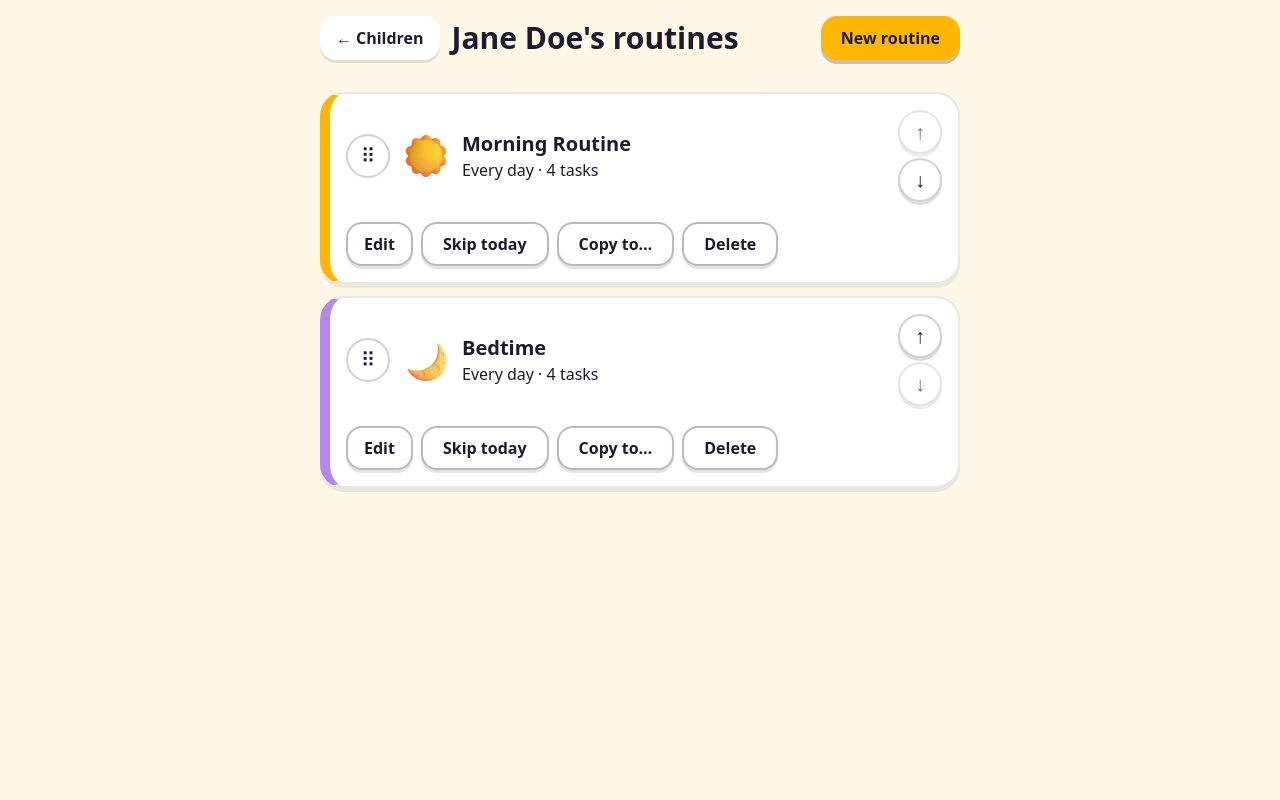
RoutineListScreen › deletes a routine after confirming
This screenshot has width=1280, height=800.
Step 1. Click the button with aria-label "Delete Bedtime" → coordinates (730, 448), box x1=682 y1=426 x2=778 y2=470
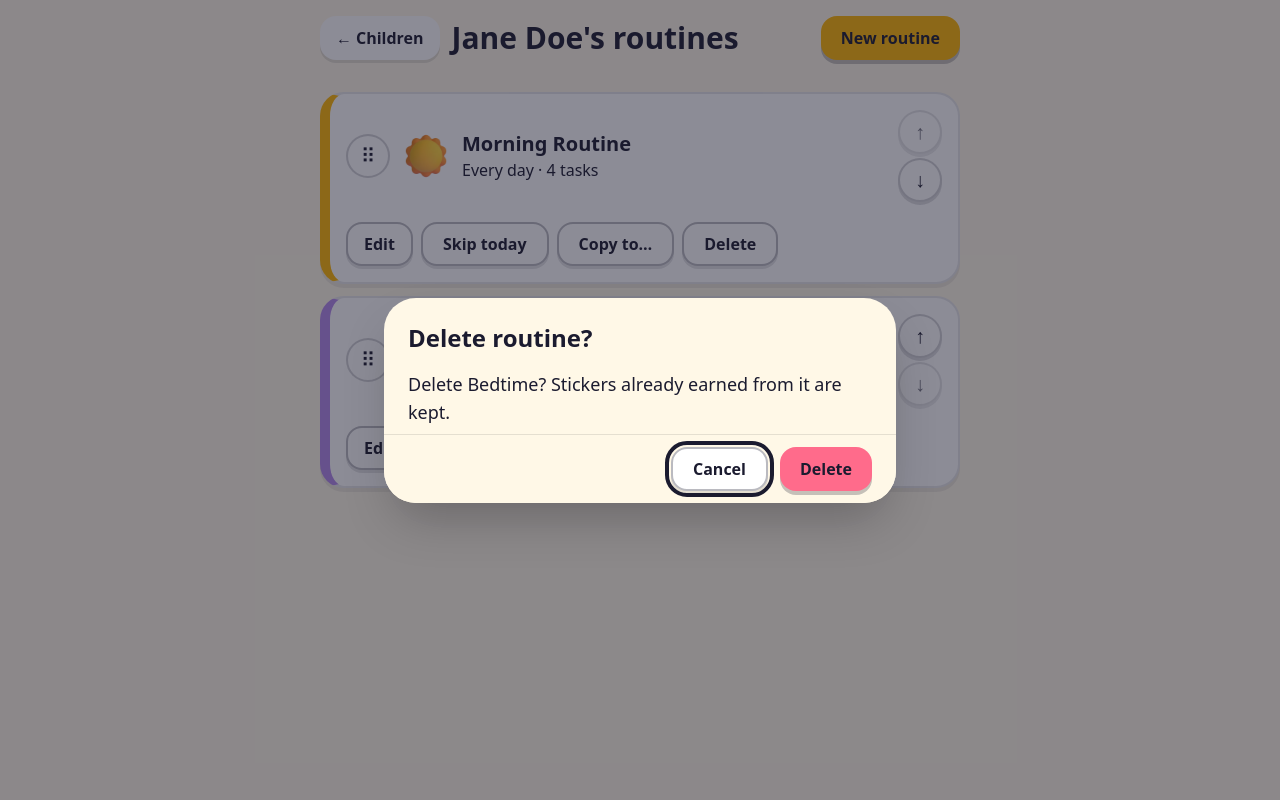
Expected: the text "Delete Bedtime? Stickers already earned from it are kept." is shown, x1=408 y1=370 x2=872 y2=426
Step 2. Click the button "Delete" → coordinates (826, 468), box x1=780 y1=446 x2=872 y2=490
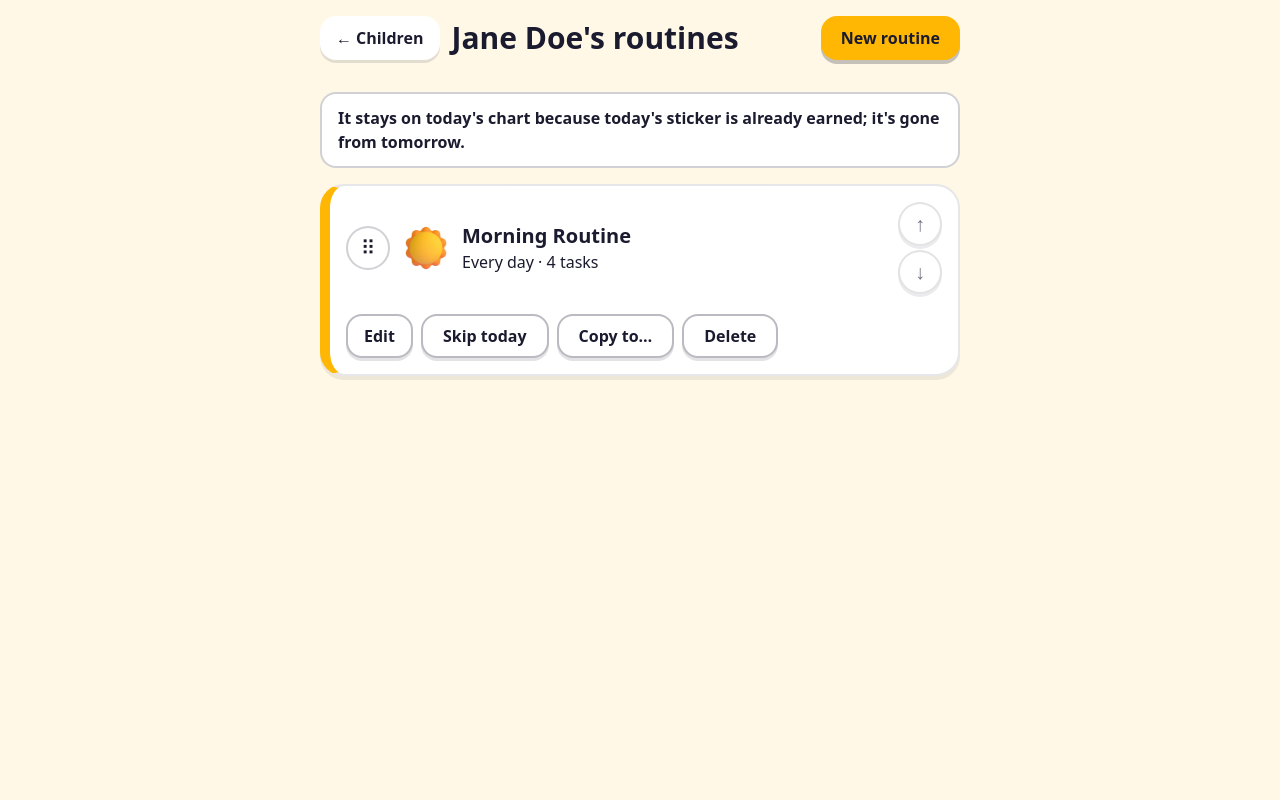
Expected: the heading "Bedtime" is gone
